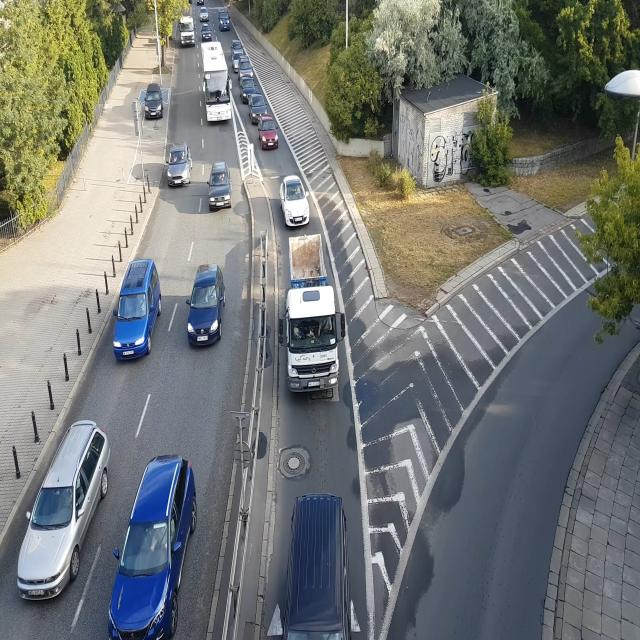bus: (200, 39, 232, 120)
car: (0, 420, 113, 610), (106, 452, 202, 640), (280, 490, 352, 640), (105, 259, 165, 359), (183, 263, 231, 347), (282, 176, 312, 226), (208, 162, 234, 209), (166, 141, 191, 189), (141, 85, 165, 120), (249, 93, 275, 119), (259, 121, 279, 148), (238, 77, 256, 99), (236, 56, 254, 78), (218, 9, 230, 30), (200, 26, 213, 41), (230, 35, 242, 51), (198, 6, 210, 21), (232, 50, 244, 64), (196, 0, 205, 5)
truck: (283, 233, 343, 397), (179, 15, 196, 46)
